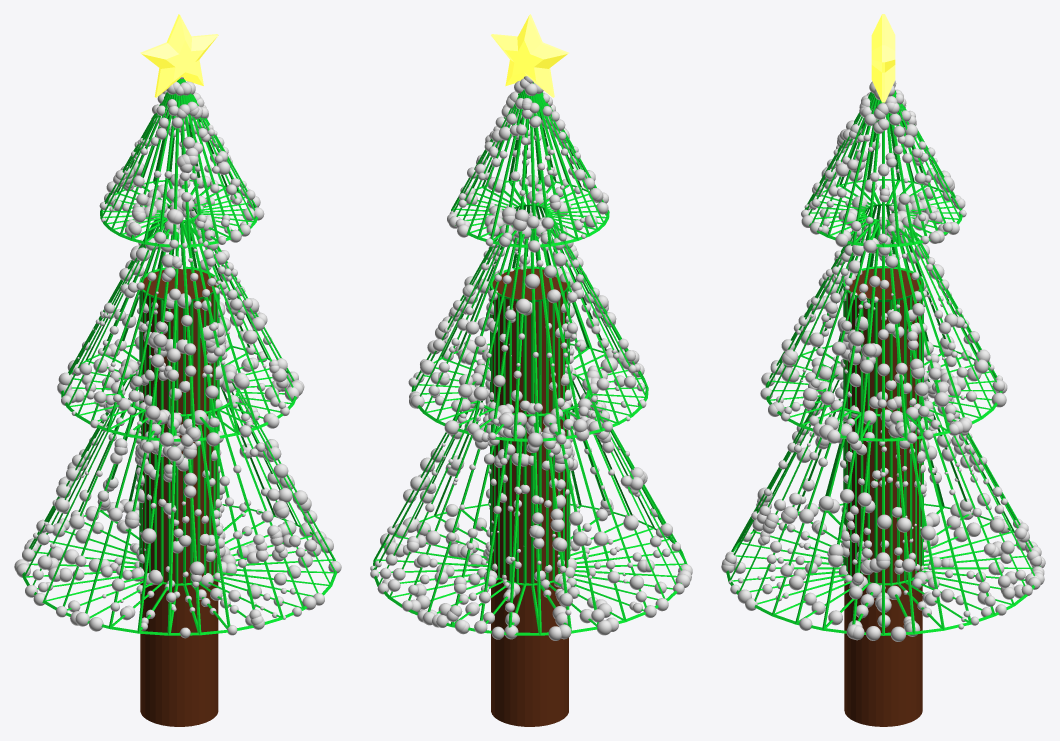
The model's file is ChristmasTreeButTheLeavesAreFurs.fbx.
3 renders of one model, left to right at view 1: azimuth 30°, elevation 25°; view 2: azimuth 150°, elevation 25°; view 3: azimuth 270°, elevation 25°, orthographic.
Visible parts, largest first — view 1: BaseConeChristmasTree, Bhatang, SorryForgotStar; view 2: BaseConeChristmasTree, Bhatang, SorryForgotStar; view 3: BaseConeChristmasTree, Bhatang, SorryForgotStar.
Boxes of the visible parts, x1,y1,x2,y2 form: BaseConeChristmasTree: [22, 79, 336, 635]; Bhatang: [140, 268, 218, 726]; SorryForgotStar: [140, 14, 218, 97]; BaseConeChristmasTree: [373, 82, 687, 635]; Bhatang: [491, 268, 568, 726]; SorryForgotStar: [491, 14, 568, 97]; BaseConeChristmasTree: [726, 90, 1040, 635]; Bhatang: [844, 268, 922, 726]; SorryForgotStar: [871, 14, 895, 102].
Bounding box in the file's own units: 209 × 490 × 207.
